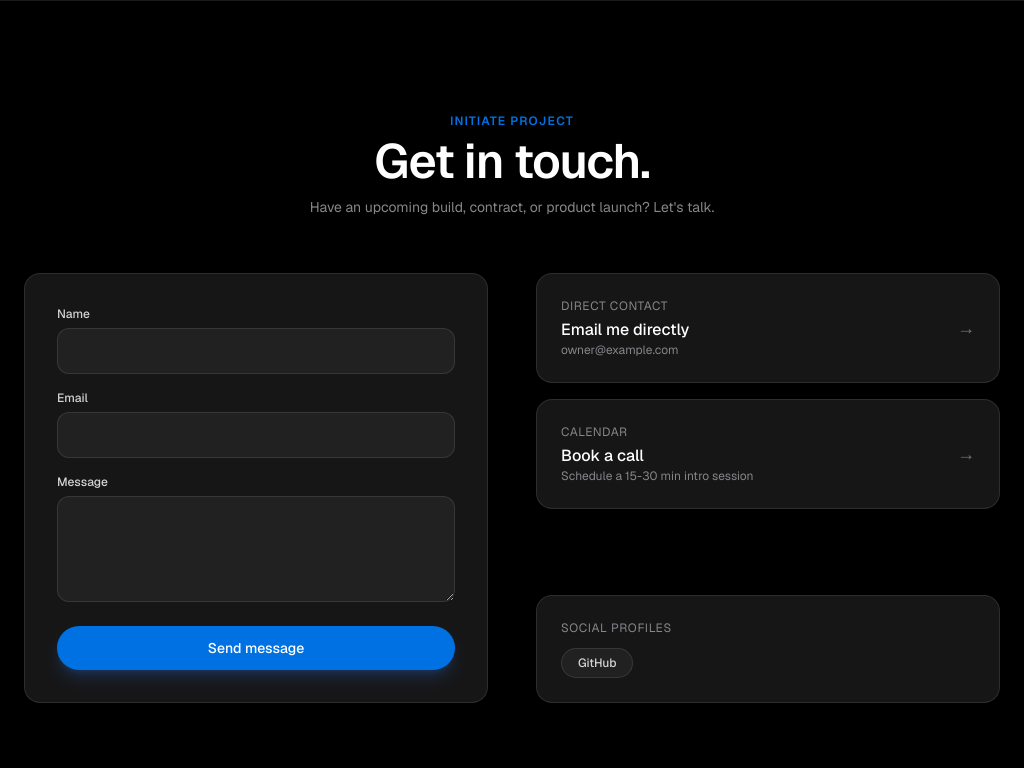
AppleContact › shows an error and re-enables the button when the network request rejects
Type "Jane" into the field labelled "Name".
click(256, 351); type("Jane")  # box [57, 328, 455, 374]
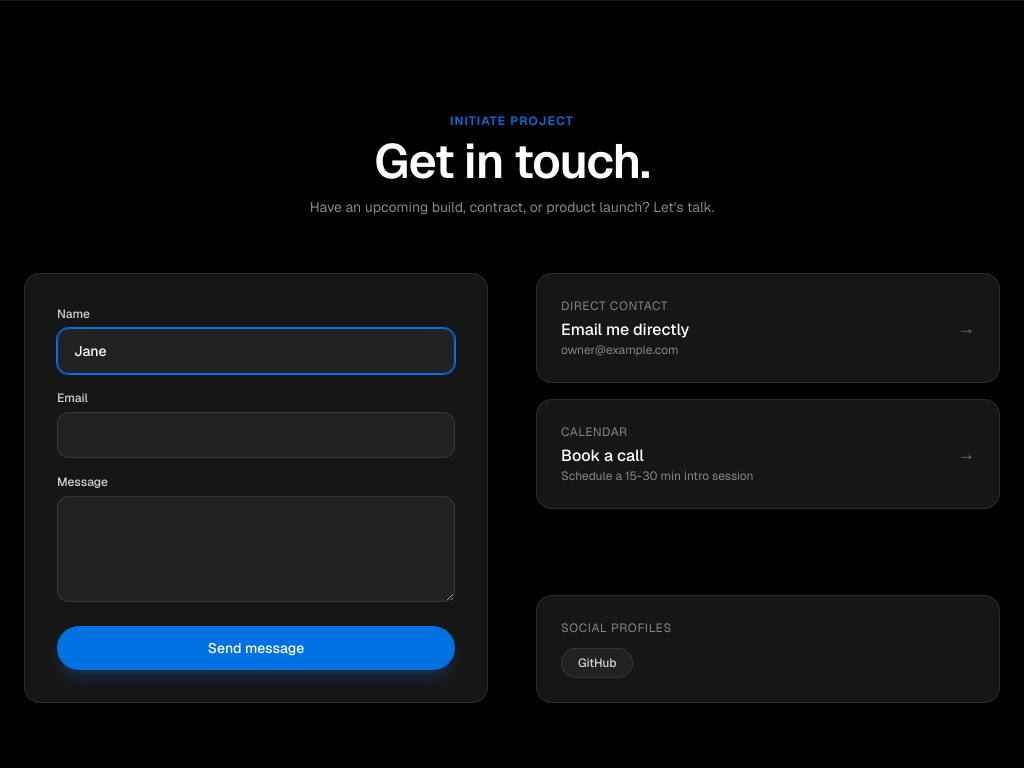
Type "jane@example.com" into the field labelled "Email".
click(256, 435); type("jane@example.com")  # box [57, 412, 455, 458]
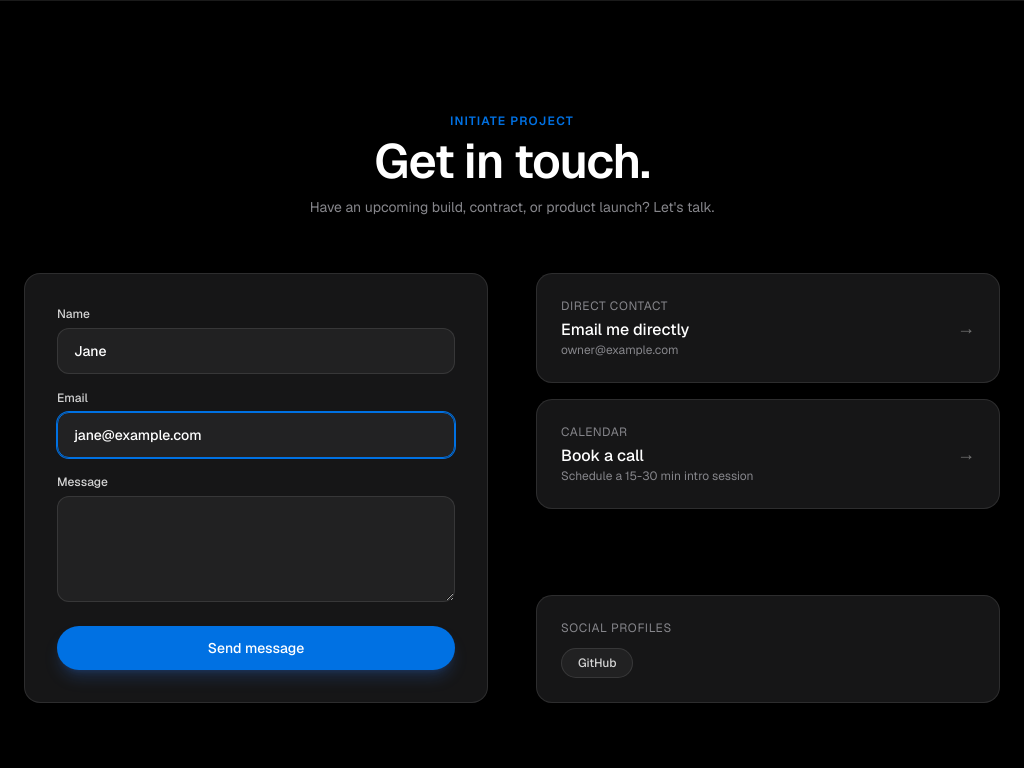
Type "Hello there" into the text box labelled "Message".
click(256, 549); type("Hello there")  # box [57, 496, 455, 602]
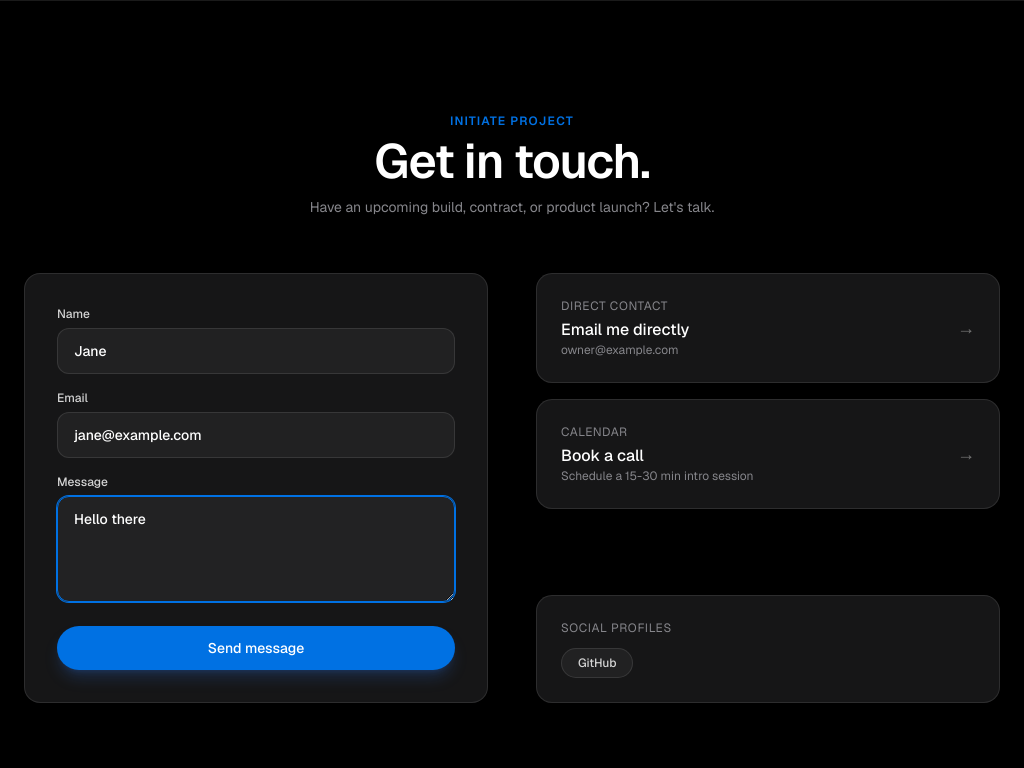
Click the button "Send message".
click(256, 648)  # box [57, 626, 455, 670]
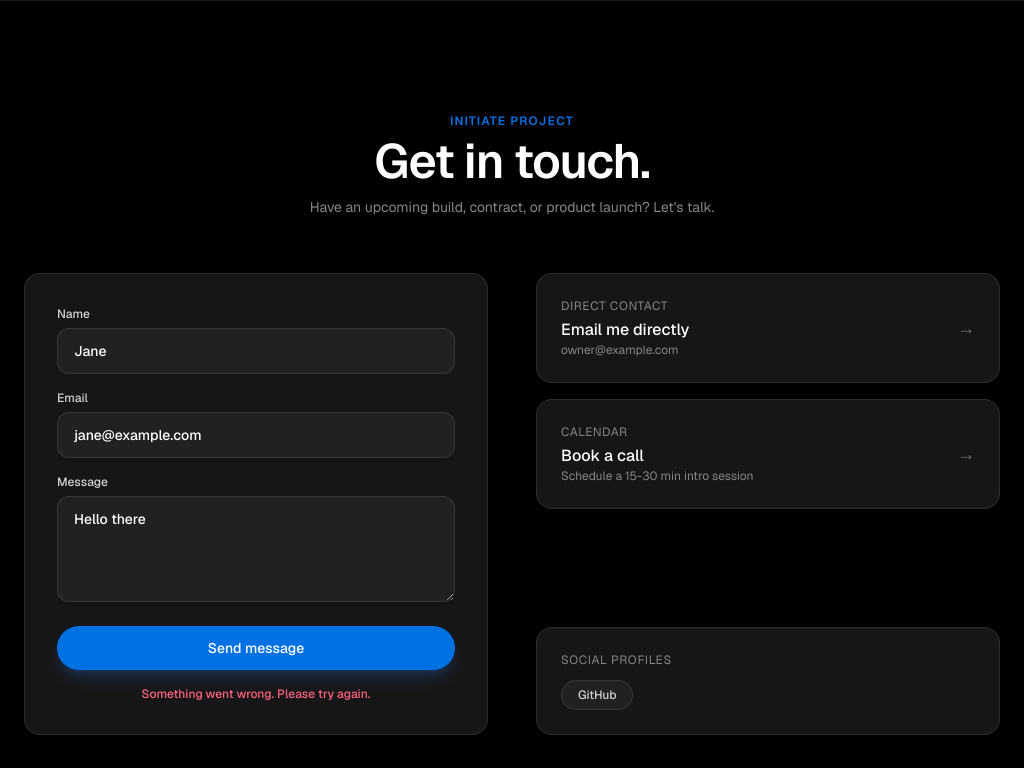
Expected: the text "Something went wrong. Please try again." is shown, [142, 686, 370, 702]
